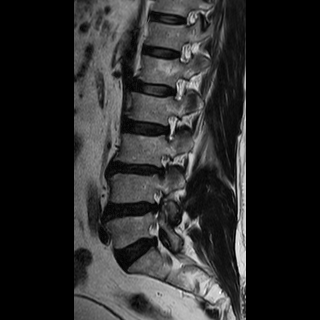RFS0: (157, 111, 181, 144), (167, 71, 189, 107)
